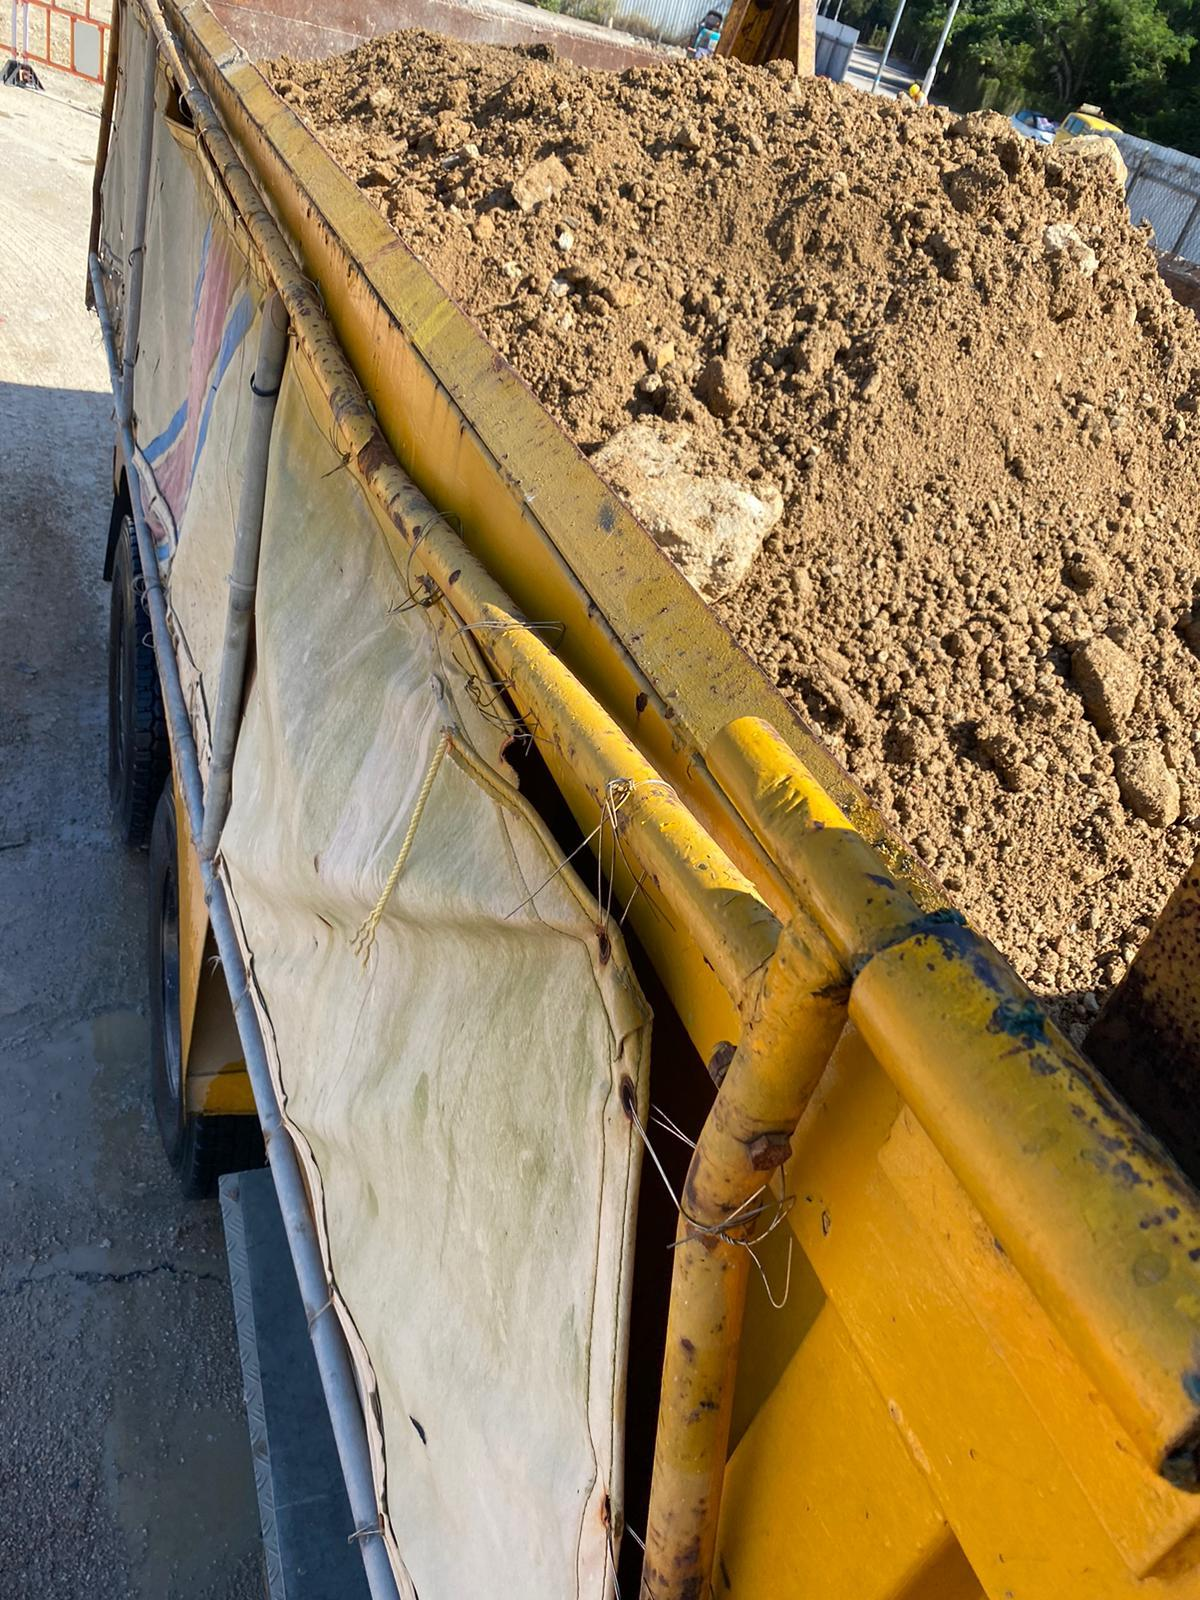dirt: (244, 23, 1198, 1027)
stone: (583, 416, 783, 603), (1068, 634, 1141, 736)
